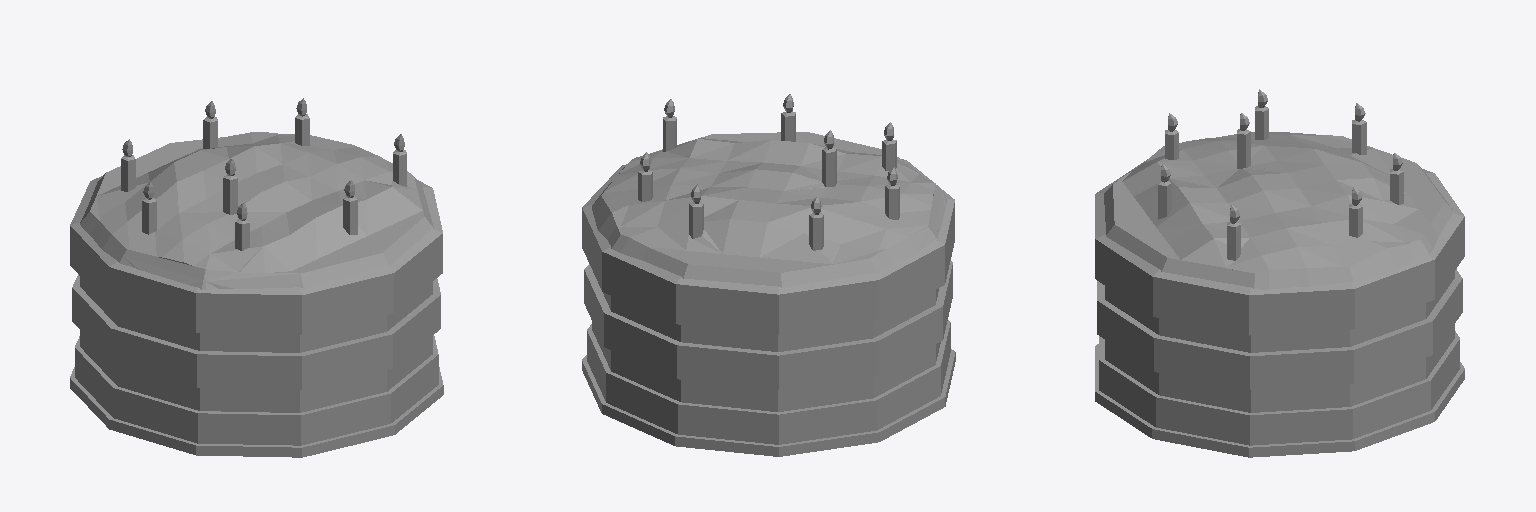
File: Cake.obj
The picture shows the model from 3 angles: view 1: azimuth 30°, elevation 25°; view 2: azimuth 150°, elevation 25°; view 3: azimuth 270°, elevation 25°; orthographic projection.
Parts seen in each view (by area): view 1: Cake_Cylinder; view 2: Cake_Cylinder; view 3: Cake_Cylinder.
Boxes of the visible parts, x1,y1,x2,y2 form: Cake_Cylinder: [70, 98, 443, 457]; Cake_Cylinder: [582, 94, 955, 456]; Cake_Cylinder: [1095, 89, 1464, 457].
Size of the model in its own units: 1.98 by 1.43 by 1.96.